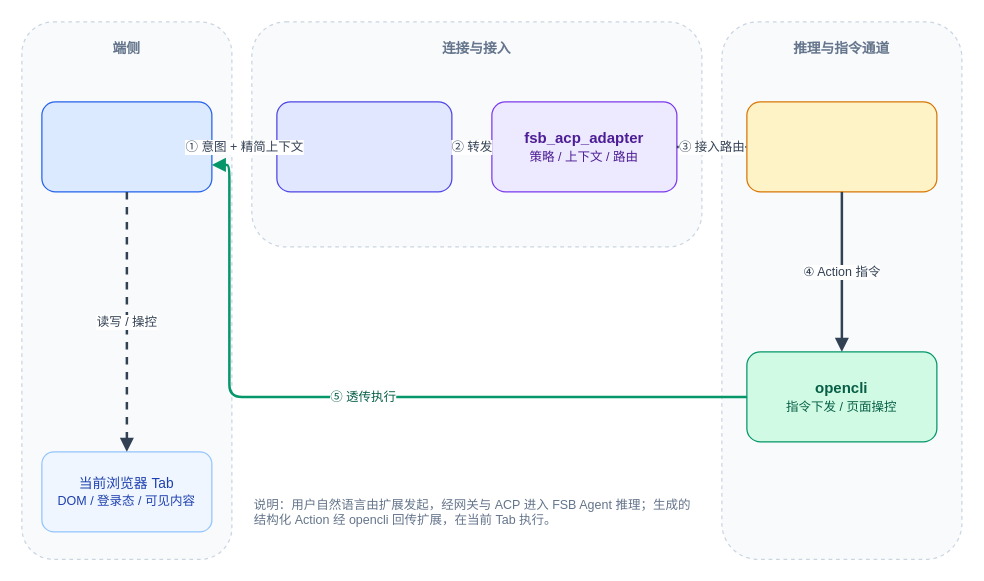
This 984x581 diagram has some shape labels left out. The centre of each missing label's shape, as x and y in pixels:
cc-connect 长连接 / 鉴权 / 路由: the point at 364,146
FSB Agent LLM 推理 / Function Call: the point at 841,146
浏览器扩展 发起端 / 执行端: the point at 126,146
